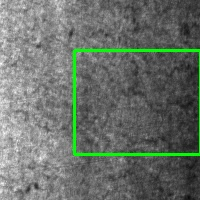crazing: (74, 51, 200, 154)
